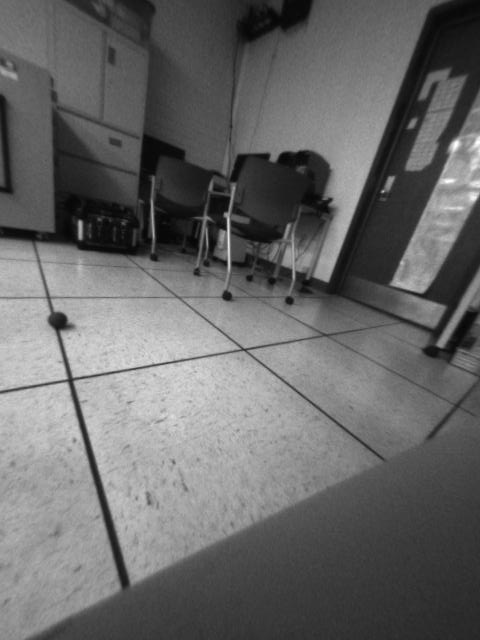dogtoy: (46, 308, 77, 333)
